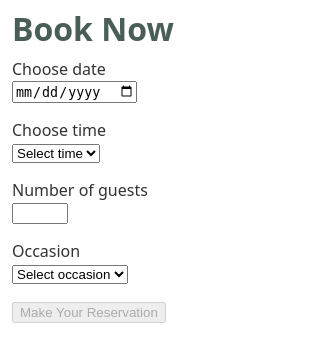
Test: BookingForm Validation › submit button becomes enabled when form is valid
The width and height of the screenshot is (332, 340).
Type "2025-07-10" into the date field labelled "Choose date" at (75, 92), box [12,81,137,103]
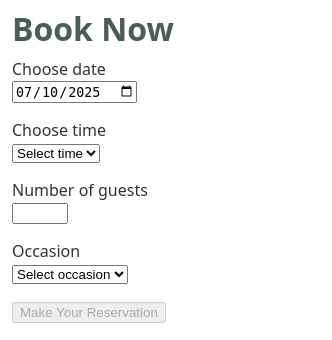
Select "17:00" in the dropdown labelled "Choose time" at (56, 153), box [12,144,100,163]
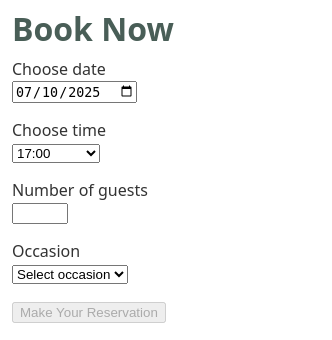
Type "4" into the number field labelled "Number of guests" at (40, 213), box [12,203,68,224]
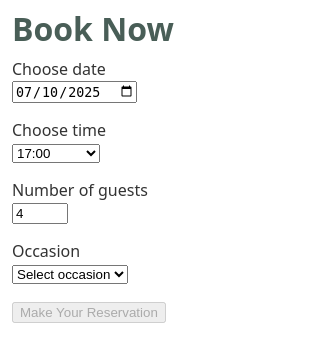
Select "Birthday" in the dropdown labelled "Occasion" at (70, 274), box [12,265,128,284]
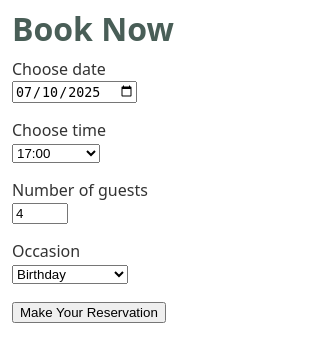
Check: the button "Make Your Reservation" is enabled, box [12,302,166,323]
